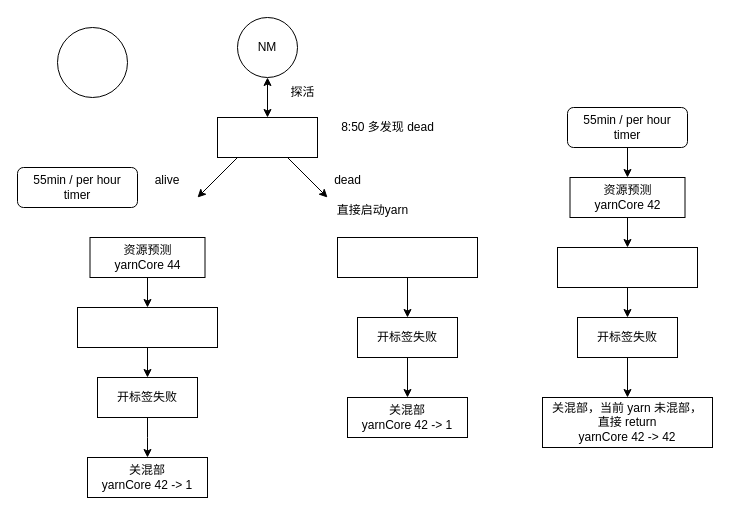
Image size: 730x515. Some labels were removed from this diagram. The centre of each missing label's shape, as x and y in pixels:
nm Operater: point 267,137
offlineCom: point 92,62
yarnCore 0 -> 42: point 627,267
yarnCore 42 -> 42: point 407,257
yarnCore 42 -> 44: point 147,327
